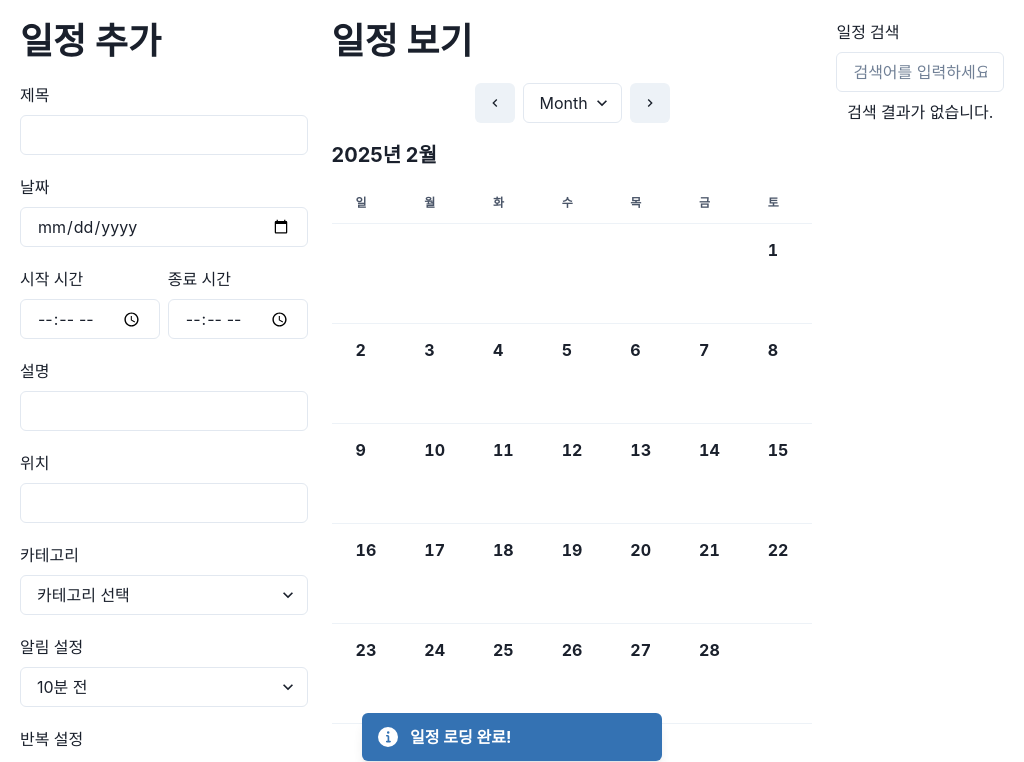
it: 일정 뷰 › 달력에 1월 1일(신정)이 공휴일로 표시되는지 확인한다
The width and height of the screenshot is (1024, 762).
Expected: the heading "2025년 2월" is shown, [332, 143, 437, 167]
Click the button named "Previous".
click(494, 103)  # box [474, 83, 514, 123]
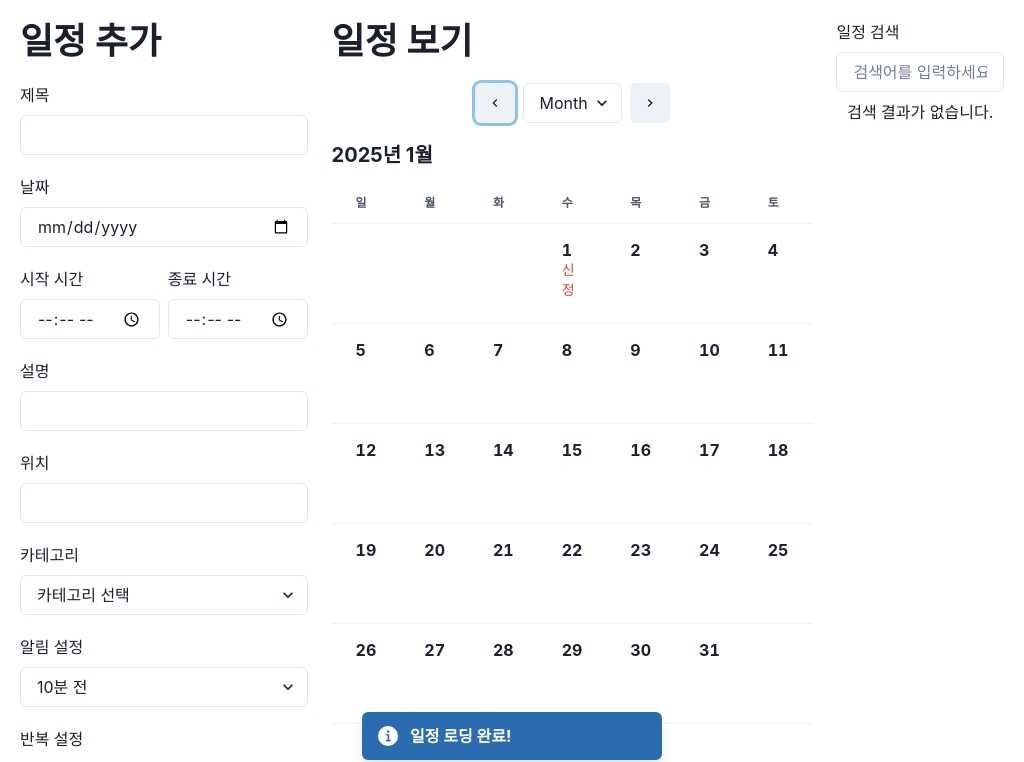
Now the text "신정" is shown, box [562, 261, 575, 298]
